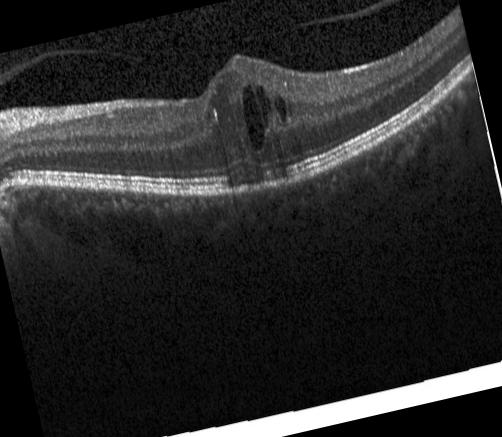intraretinal_cyst: (241, 84, 264, 148), (255, 85, 270, 128), (273, 94, 286, 120)
subretinal_fluid: (238, 171, 253, 183)
vitreous_detachment: (0, 0, 399, 84)
